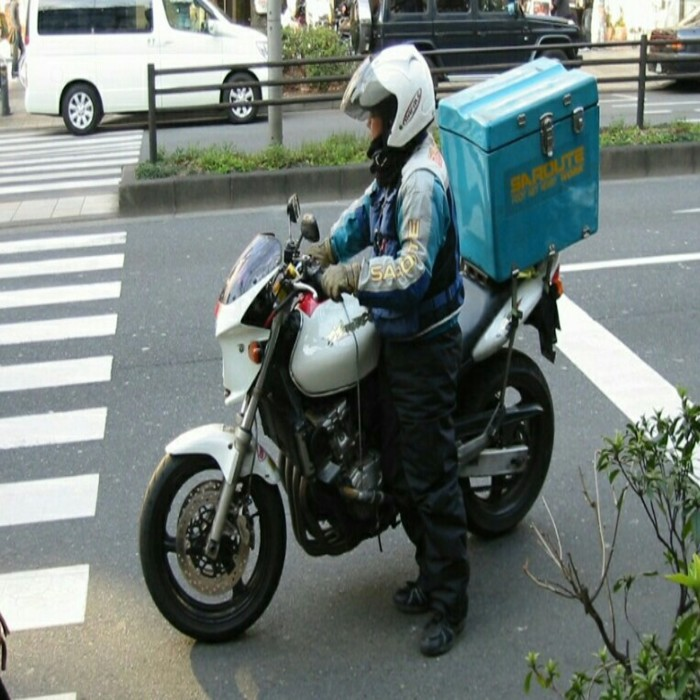h: (337, 36, 442, 186)
